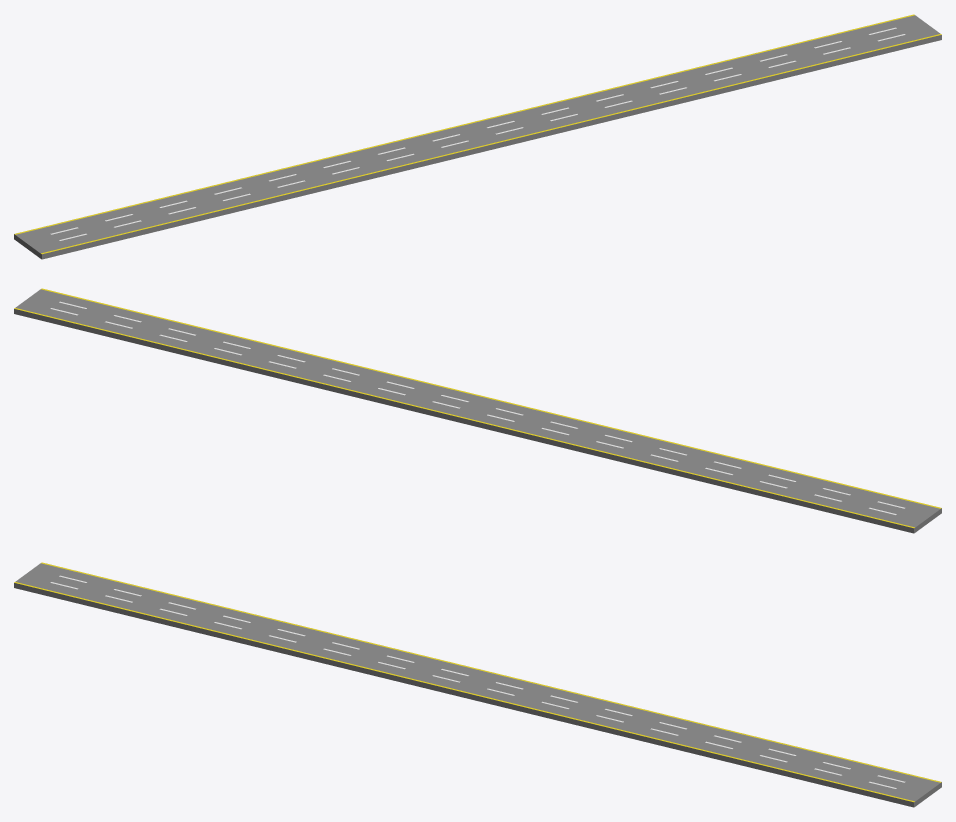
Rendered from big-road.fbx.
3 views of the same model, one above another, from view 1: azimuth 30°, elevation 25°; view 2: azimuth 150°, elevation 25°; view 3: azimuth 330°, elevation 25° (orthographic).
Visible parts, largest first — view 1: big-road; view 2: big-road; view 3: big-road.
Boxes of the visible parts, x1,y1,x2,y2 form: big-road: (14, 14, 941, 259); big-road: (14, 288, 941, 533); big-road: (14, 562, 941, 807).
Bounding box in the file's own units: 5376 × 30 × 288.
